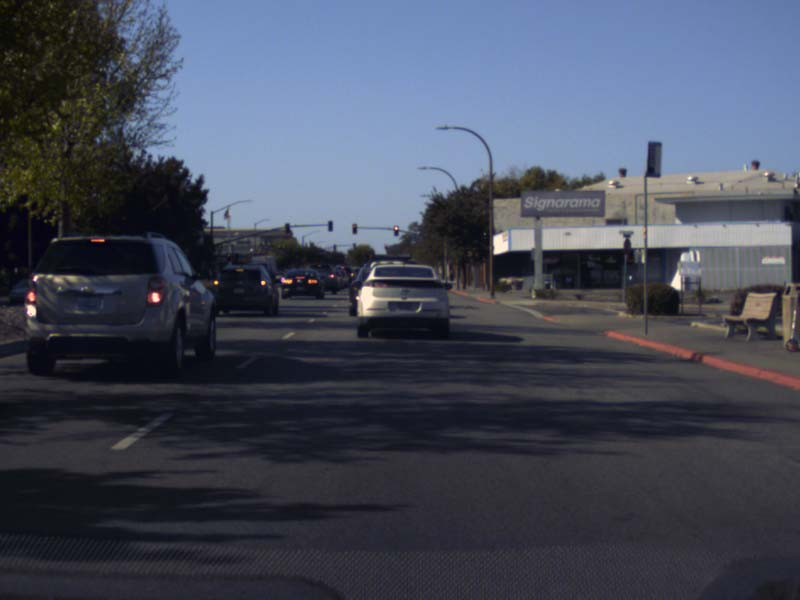Red: (351, 223, 357, 235), (393, 224, 398, 236), (226, 252, 231, 259)
